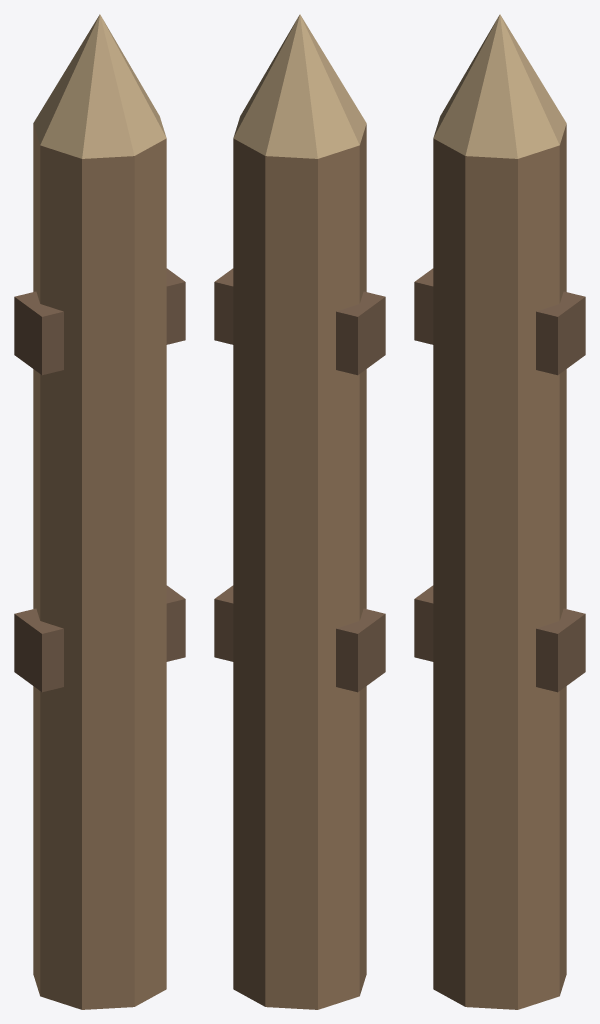
File: fence_post_wood.glb
3 renders of one model, left to right at view 1: azimuth 30°, elevation 25°; view 2: azimuth 150°, elevation 25°; view 3: azimuth 330°, elevation 25°, orthographic.
Parts seen in each view (by area): view 1: fence_post_wood; view 2: fence_post_wood; view 3: fence_post_wood.
Boxes of the visible parts, <box> form: fence_post_wood: <box>14,14,185,1009</box>; fence_post_wood: <box>214,14,385,1009</box>; fence_post_wood: <box>414,14,585,1009</box>.
Bounding box in the file's own units: 0.18 × 1.16 × 0.15.
